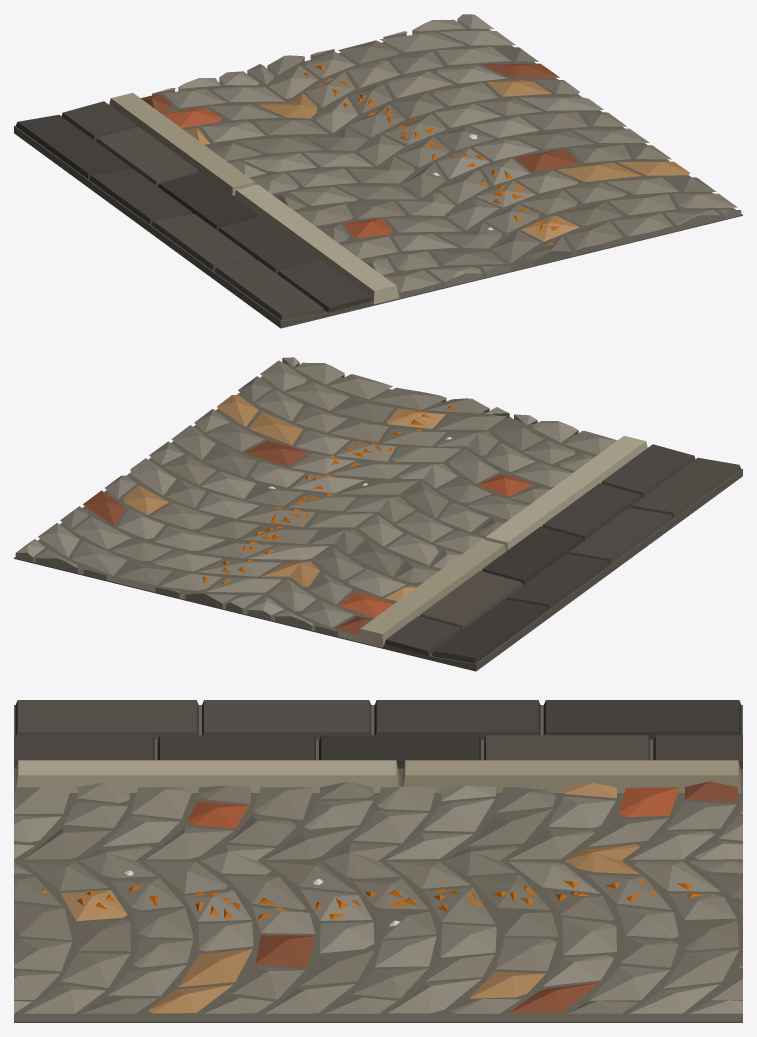
The model's file is cobbled-street-tile-054385.glb.
3 renders of one model, top to bottom at view 1: azimuth 30°, elevation 25°; view 2: azimuth 150°, elevation 25°; view 3: azimuth 270°, elevation 25°, orthographic. The views are drawn at different scales.
Visible parts, largest first — view 1: cobbled-street, trail-detail; view 2: cobbled-street, trail-detail; view 3: cobbled-street, trail-detail.
Part boxes in pixels (x1,y1,x2,y2): cobbled-street: (14,14,742,328); trail-detail: (439,158,535,207); cobbled-street: (14,357,742,671); trail-detail: (292,441,411,478); cobbled-street: (14,700,742,1022); trail-detail: (184,875,322,933).
Size of the model in its own units: 2 by 0.054 by 2.
